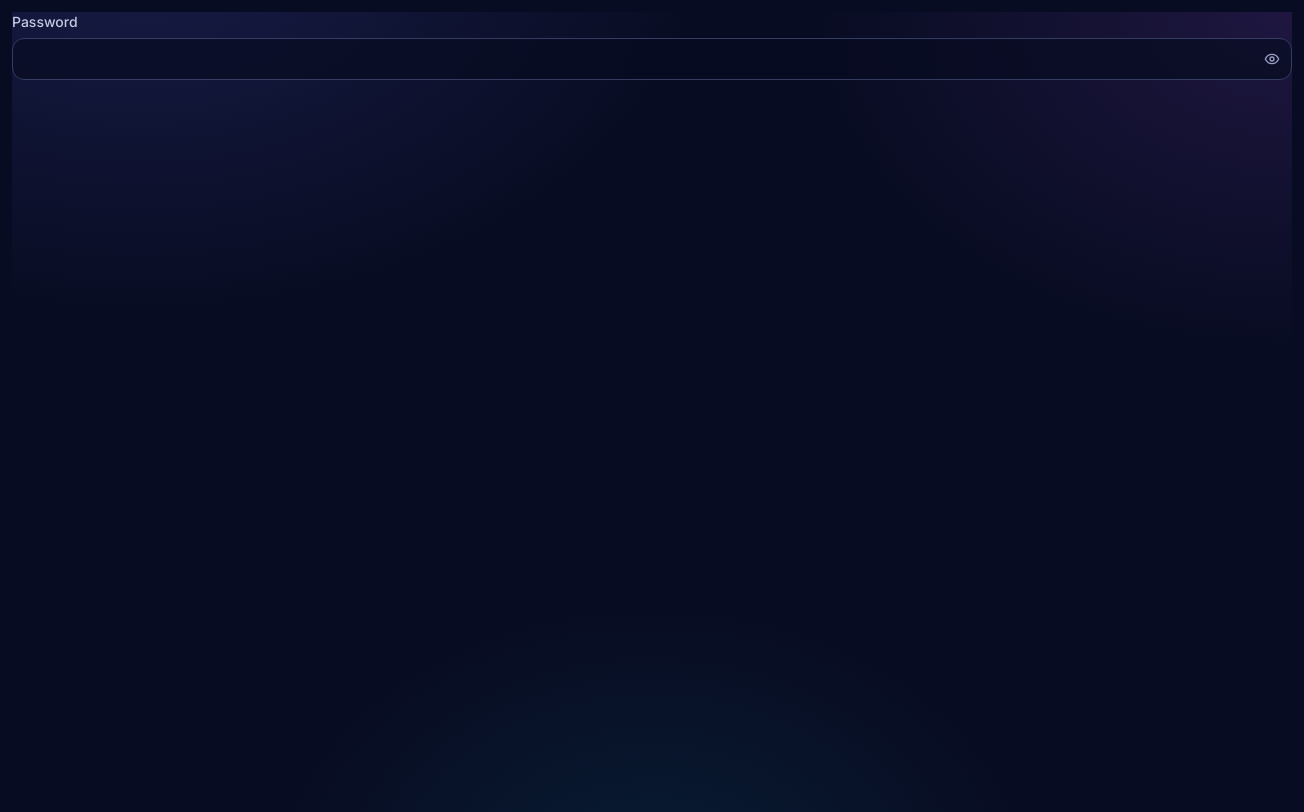
Test: PasswordField › starts hidden and shows or hides the typed password with the eye button
Type "s3cret-pass" into the password field labelled "Password" at (652,59), box x1=12 y1=38 x2=1292 y2=80
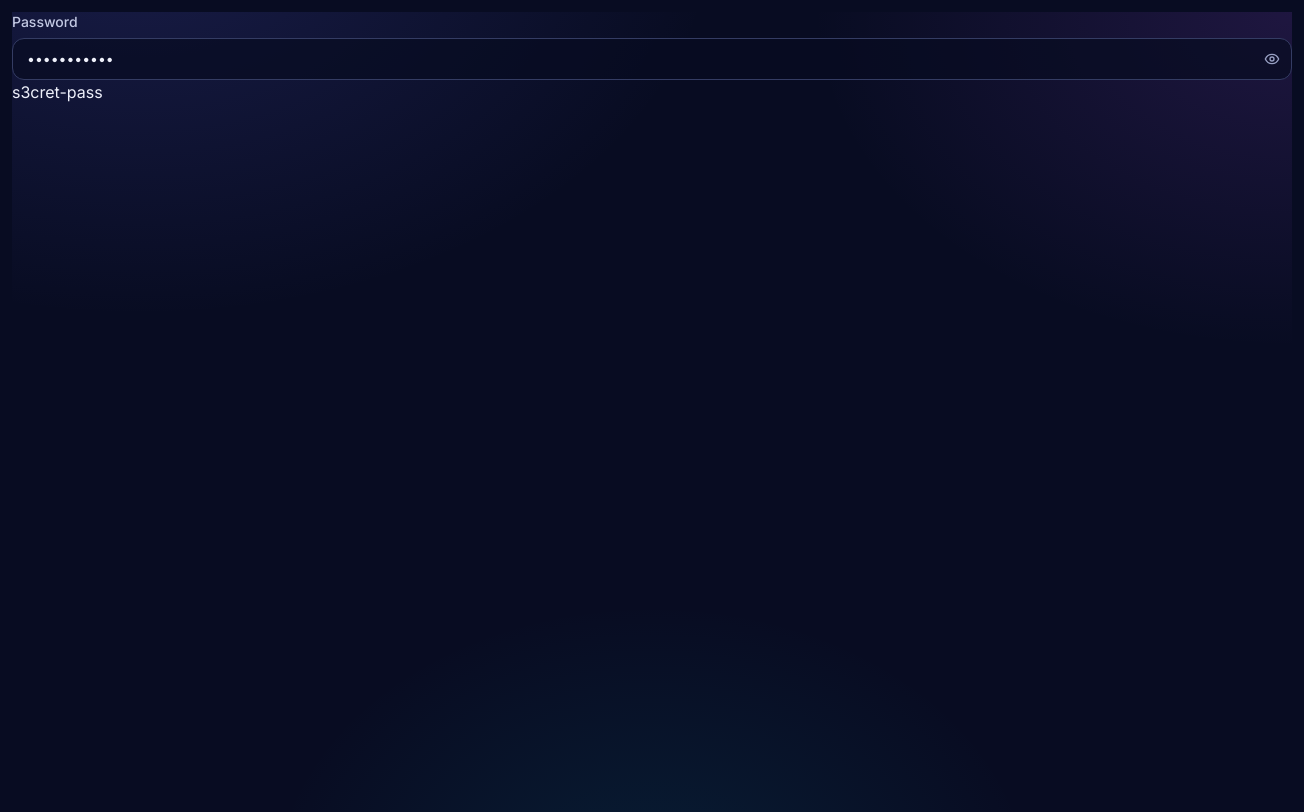
Click the button named "Show password" at (1272,59), box x1=1252 y1=38 x2=1292 y2=80
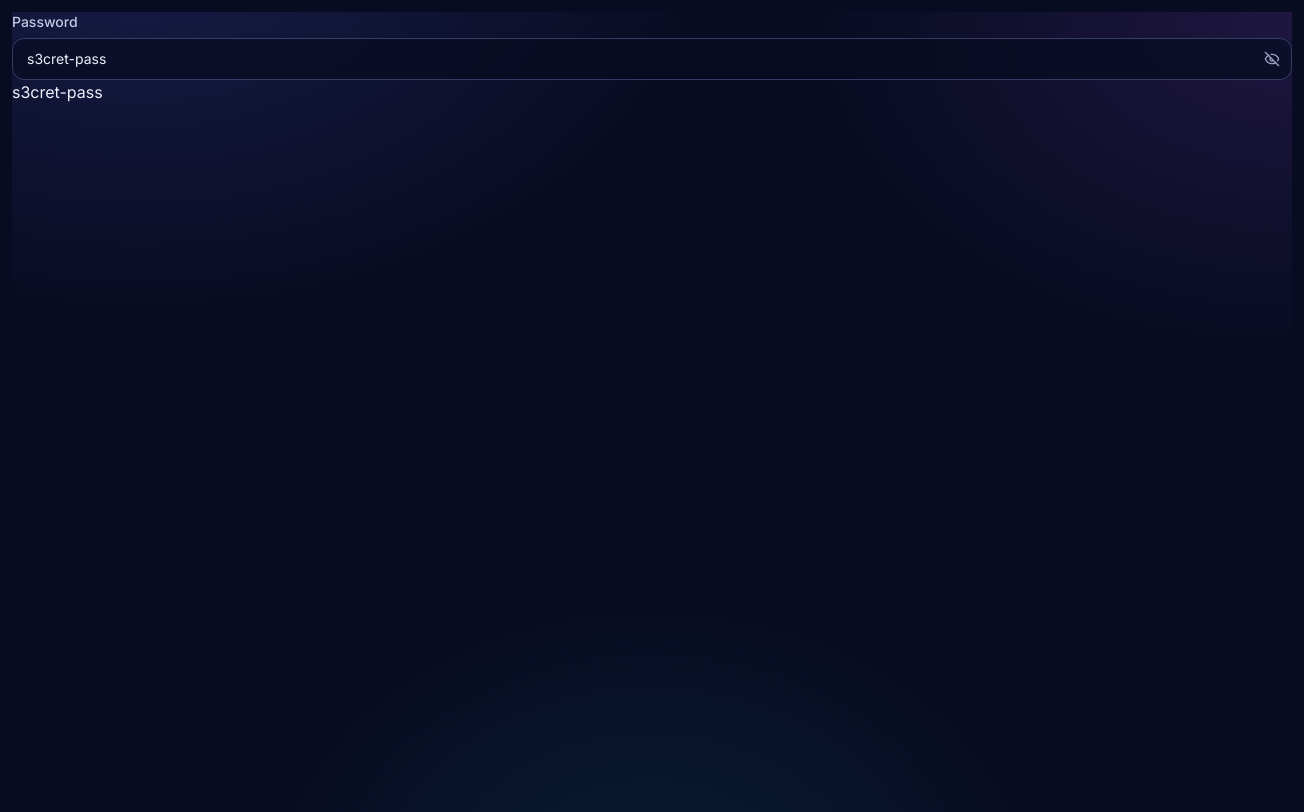
Result: the button named "Hide password" is pressed
Click the button named "Hide password" at (1272,59), box x1=1252 y1=38 x2=1292 y2=80
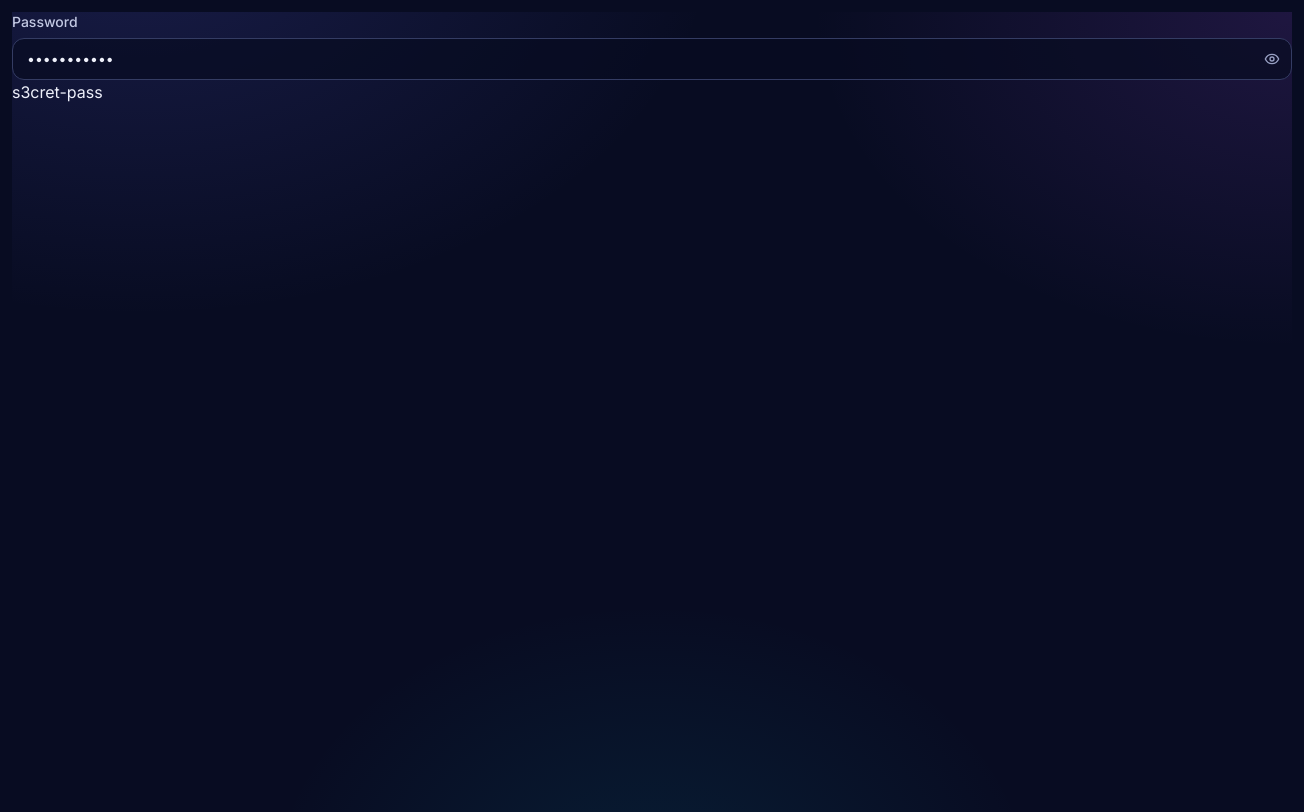
Result: the button named "Show password" is shown at x1=1252 y1=38 x2=1292 y2=80
